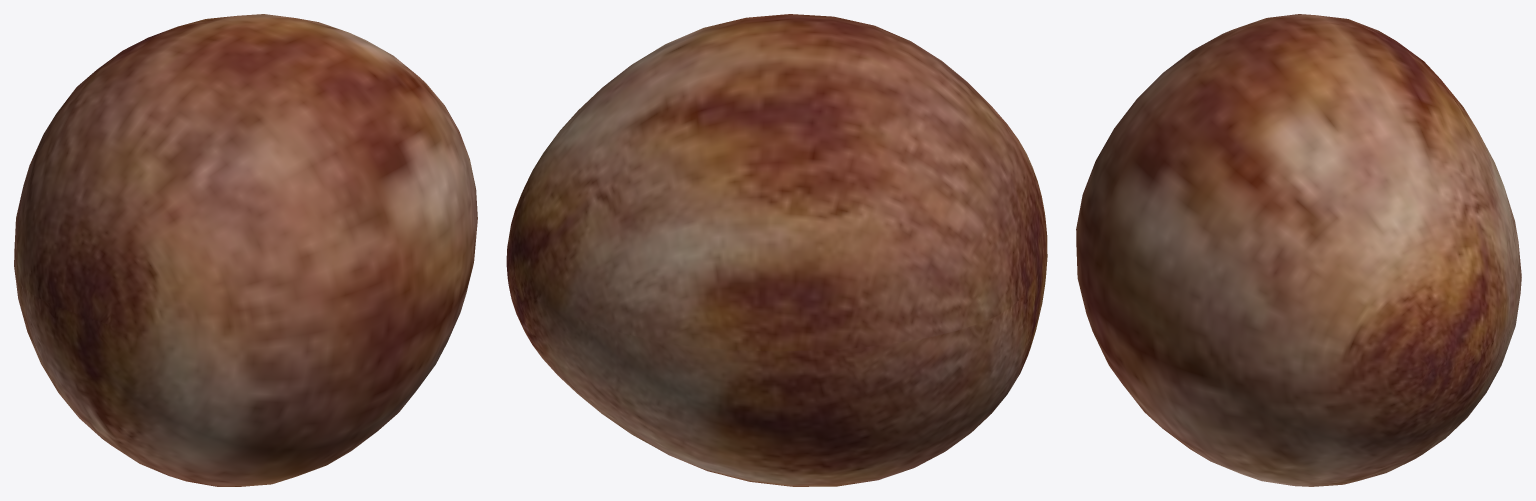
The model's file is DarkBrownAvocadoSeed.obj.
3 renders of one model, left to right at view 1: azimuth 30°, elevation 25°; view 2: azimuth 150°, elevation 25°; view 3: azimuth 270°, elevation 25°, orthographic. The views are drawn at different scales.
Parts seen in each view (by area): view 1: DarkBrownAvocadoSeed; view 2: DarkBrownAvocadoSeed; view 3: DarkBrownAvocadoSeed.
Part boxes in pixels (x1,y1,x2,y2): DarkBrownAvocadoSeed: [14, 14, 477, 486]; DarkBrownAvocadoSeed: [506, 14, 1047, 486]; DarkBrownAvocadoSeed: [1076, 14, 1521, 486].
Bounding box in the file's own units: 0.0389 × 0.0361 × 0.0347.
1 material, 1 textured.
